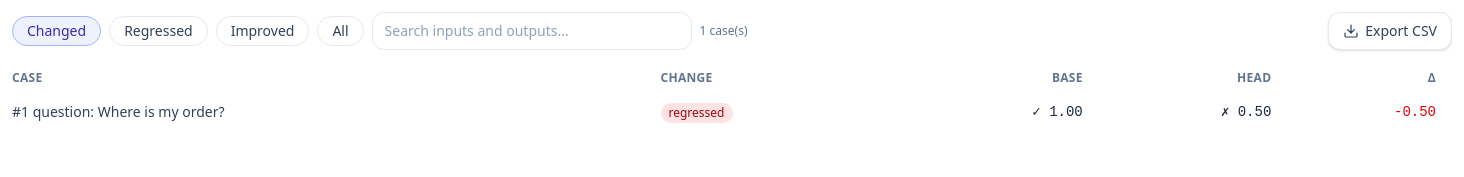
CompareTable › filters by search text
Click the tab "All" at point(340, 31), box [317,16,364,46]
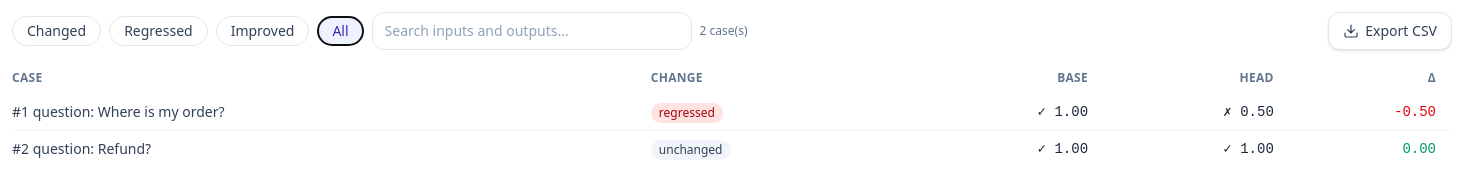
Type "refund" into the field named "Search cases" at point(532, 31), box [372,12,692,50]
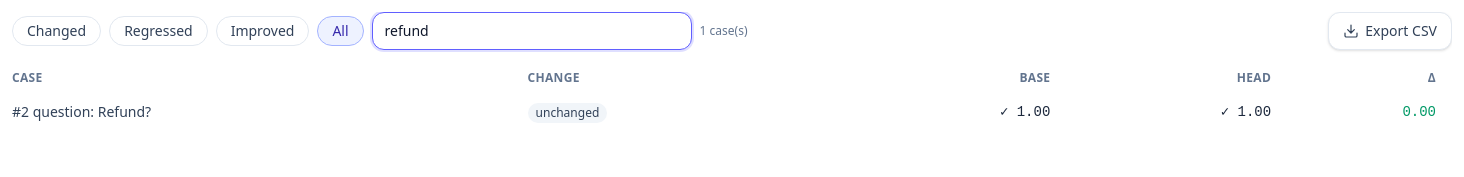
Result: the row with test id "compare-row-2" is shown at [12,94,1452,130]
Result: the row with test id "compare-row-1" is gone
